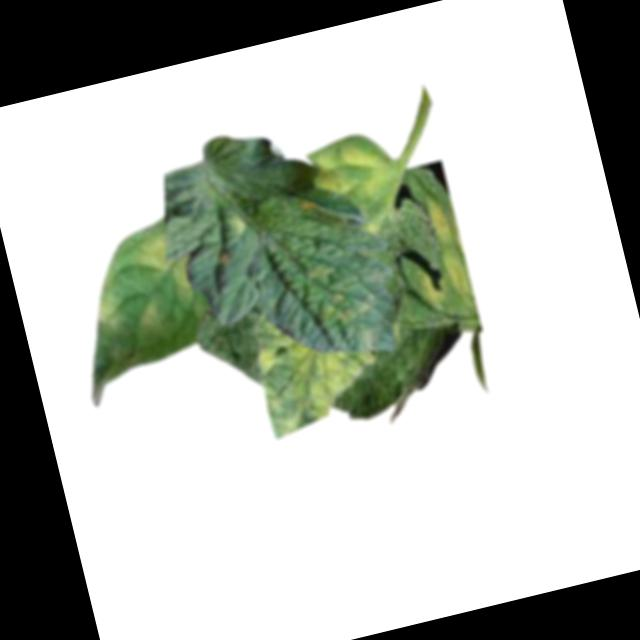Leaf_Mold: (246, 293, 392, 440), (302, 125, 400, 212), (130, 225, 201, 302), (312, 276, 377, 328), (87, 271, 129, 331), (438, 241, 475, 301), (421, 195, 460, 248), (417, 264, 450, 307), (133, 300, 168, 339), (300, 255, 339, 287), (225, 209, 252, 240), (294, 192, 321, 220)
